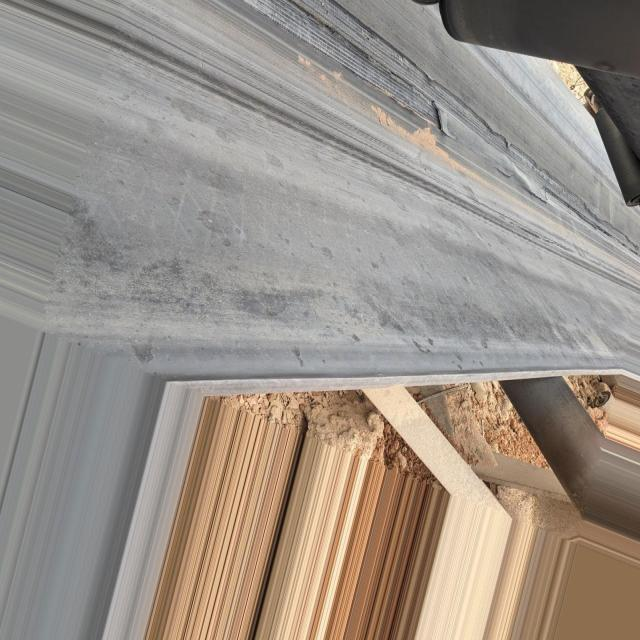Roller: (442, 0, 638, 74), (507, 376, 600, 517), (593, 102, 640, 205)
Tear: (226, 0, 639, 260)
